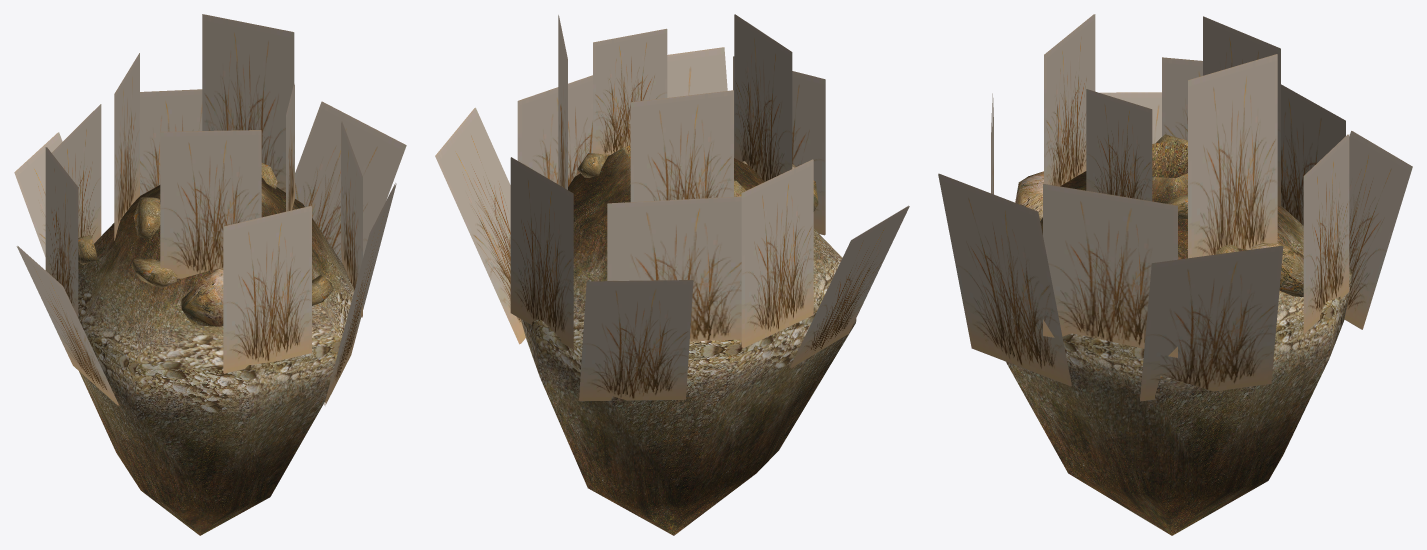
The model's file is poi_all_lair_antpile_dark_l1.fbx.
3 views of the same model, side by side, from view 1: azimuth 30°, elevation 25°; view 2: azimuth 150°, elevation 25°; view 3: azimuth 270°, elevation 25° (orthographic). The views are drawn at different scales.
Parts seen in each view (by area): view 1: mesh_node; view 2: mesh_node; view 3: mesh_node.
Boxes of the visible parts, x1,y1,x2,y2 form: mesh_node: (14,14,406,535); mesh_node: (435,14,909,535); mesh_node: (938,14,1412,535).
Size of the model in its own units: 6.11 by 7.32 by 6.19.
